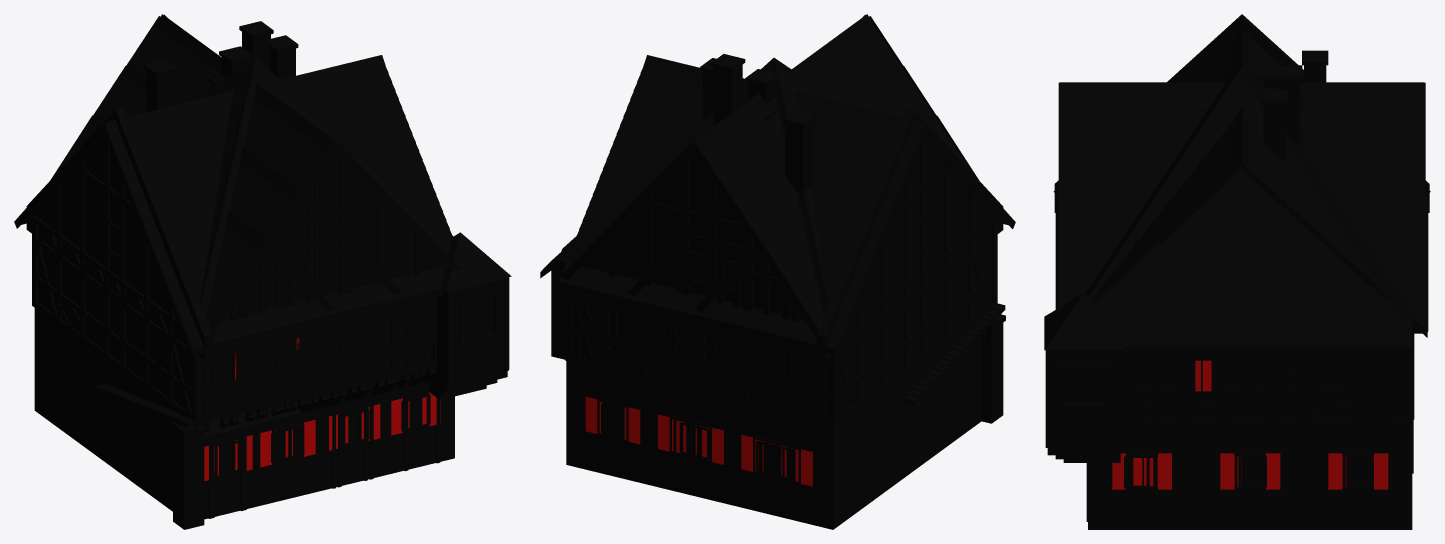
File: zeile_halbling_s2.glb
3 views of the same model, side by side, from view 1: azimuth 30°, elevation 25°; view 2: azimuth 150°, elevation 25°; view 3: azimuth 270°, elevation 25° (orthographic). The views are drawn at different scales.
Visible parts, largest first — view 1: eck, k_g8, kappe_offen, k_t6, k_t8, k_g6, kappe_brand, k_g4, hinterhaus, eck_a, eck_b, pfeiler (+9 smaller); view 2: eck, k_g8, k_g6, k_t8, kappe_offen, k_t6, k_g4, kappe_brand, hinterhaus, k_g8_a, k_g8_b, k_g6_a (+7 smaller); view 3: eck, k_g8, eck_a, k_t8, eck_b, k_t6, kappe_brand.
Part boxes in pixels (bbox=[...]): eck: bbox=[34, 57, 511, 516]; k_g8: bbox=[68, 14, 460, 517]; kappe_offen: bbox=[14, 120, 203, 425]; k_t6: bbox=[127, 46, 403, 515]; k_t8: bbox=[128, 35, 451, 471]; k_g6: bbox=[67, 64, 401, 512]; kappe_brand: bbox=[26, 108, 212, 410]; k_g4: bbox=[51, 113, 334, 519]; hinterhaus: bbox=[96, 384, 320, 516]; eck_a: bbox=[203, 75, 452, 491]; eck_b: bbox=[203, 300, 436, 472]; pfeiler: bbox=[170, 421, 206, 529]; eck: bbox=[540, 57, 1002, 529]; k_g8: bbox=[561, 14, 903, 526]; k_g6: bbox=[628, 64, 975, 525]; k_t8: bbox=[558, 55, 901, 501]; kappe_offen: bbox=[826, 120, 1015, 426]; k_t6: bbox=[625, 69, 901, 529]; k_g4: bbox=[694, 114, 978, 526]; kappe_brand: bbox=[816, 108, 1003, 412]; hinterhaus: bbox=[904, 303, 1005, 473]; k_g8_a: bbox=[562, 154, 824, 498]; k_g8_b: bbox=[579, 143, 822, 482]; k_g6_a: bbox=[629, 193, 821, 496]; eck: bbox=[1044, 50, 1412, 529]; k_g8: bbox=[1058, 65, 1425, 431]; eck_a: bbox=[1050, 75, 1412, 500]; k_t8: bbox=[1055, 30, 1428, 473]; eck_b: bbox=[1089, 354, 1411, 488]; k_t6: bbox=[1055, 29, 1428, 419]; kappe_brand: bbox=[1054, 14, 1429, 212].
Bounding box in the file's own units: 9.44 × 11.06 × 9.53.
